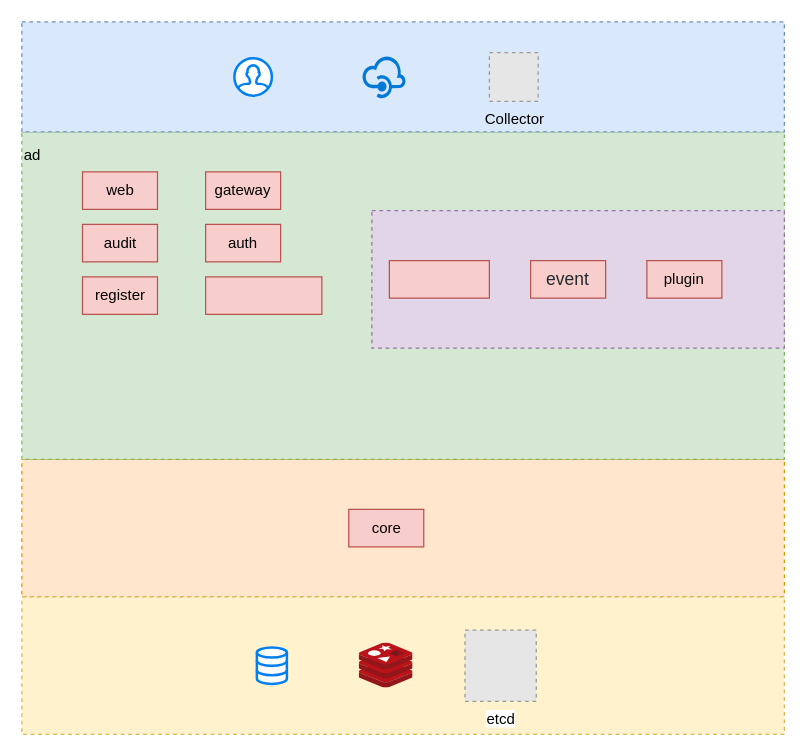
Some shapes in this 806 by 756 pixel diagram are drawn without their labels. Grey dashed boxes stand in for pictures. The box of each missing label's shape, as (x1, y1, x2, y2) in pixels:
accumulator: (388, 259, 489, 298)
API: (361, 54, 405, 98)
MongoDB: (255, 646, 288, 684)
Redis: (359, 642, 412, 688)
UI: (232, 56, 272, 96)
value-added: (204, 276, 322, 314)
